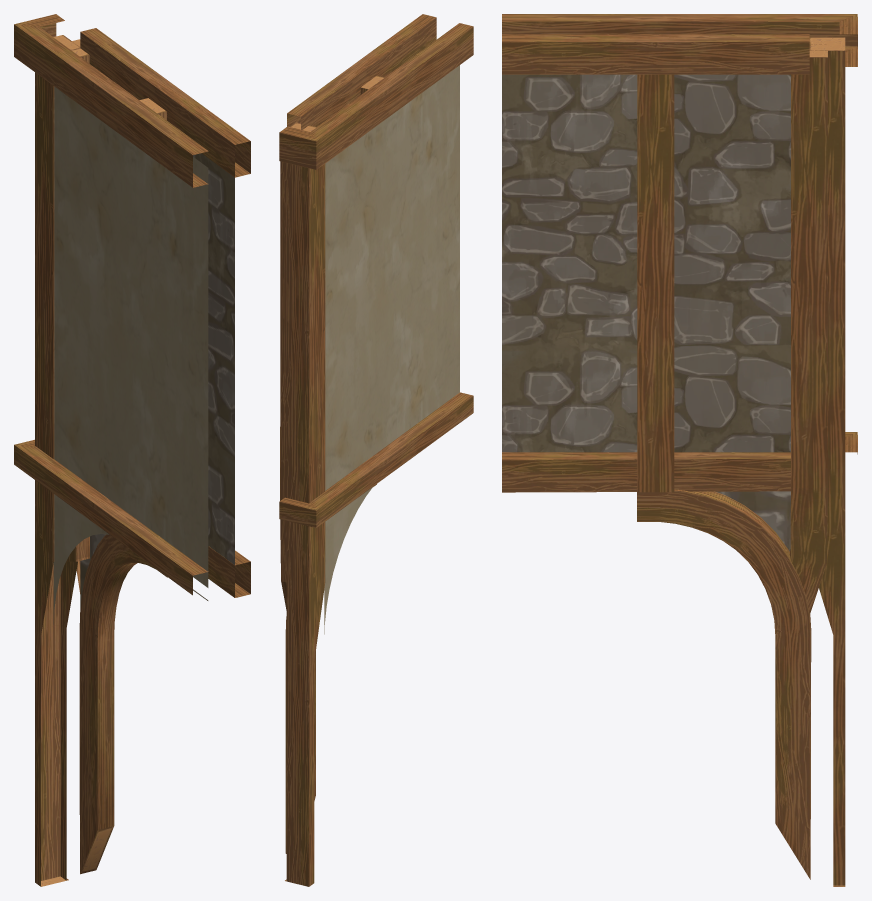
The model's file is Overhang_Side_UnevenBrick_Long_R.glb.
3 views of the same model, side by side, from view 1: azimuth 30°, elevation 25°; view 2: azimuth 150°, elevation 25°; view 3: azimuth 270°, elevation 25° (orthographic). The views are drawn at different scales.
Visible parts, largest first — view 1: Overhang_Side_UnevenBrick_Long_R; view 2: Overhang_Side_UnevenBrick_Long_R; view 3: Overhang_Side_UnevenBrick_Long_R.
Part boxes in pixels (left/top/right/bottom): Overhang_Side_UnevenBrick_Long_R: left=14, top=14, right=250, bottom=886; Overhang_Side_UnevenBrick_Long_R: left=279, top=14, right=473, bottom=886; Overhang_Side_UnevenBrick_Long_R: left=502, top=14, right=857, bottom=886.
Bounding box in the file's own units: 0.4794 × 6.12 × 2.31.
Materials: 3 (3 with a texture image).
